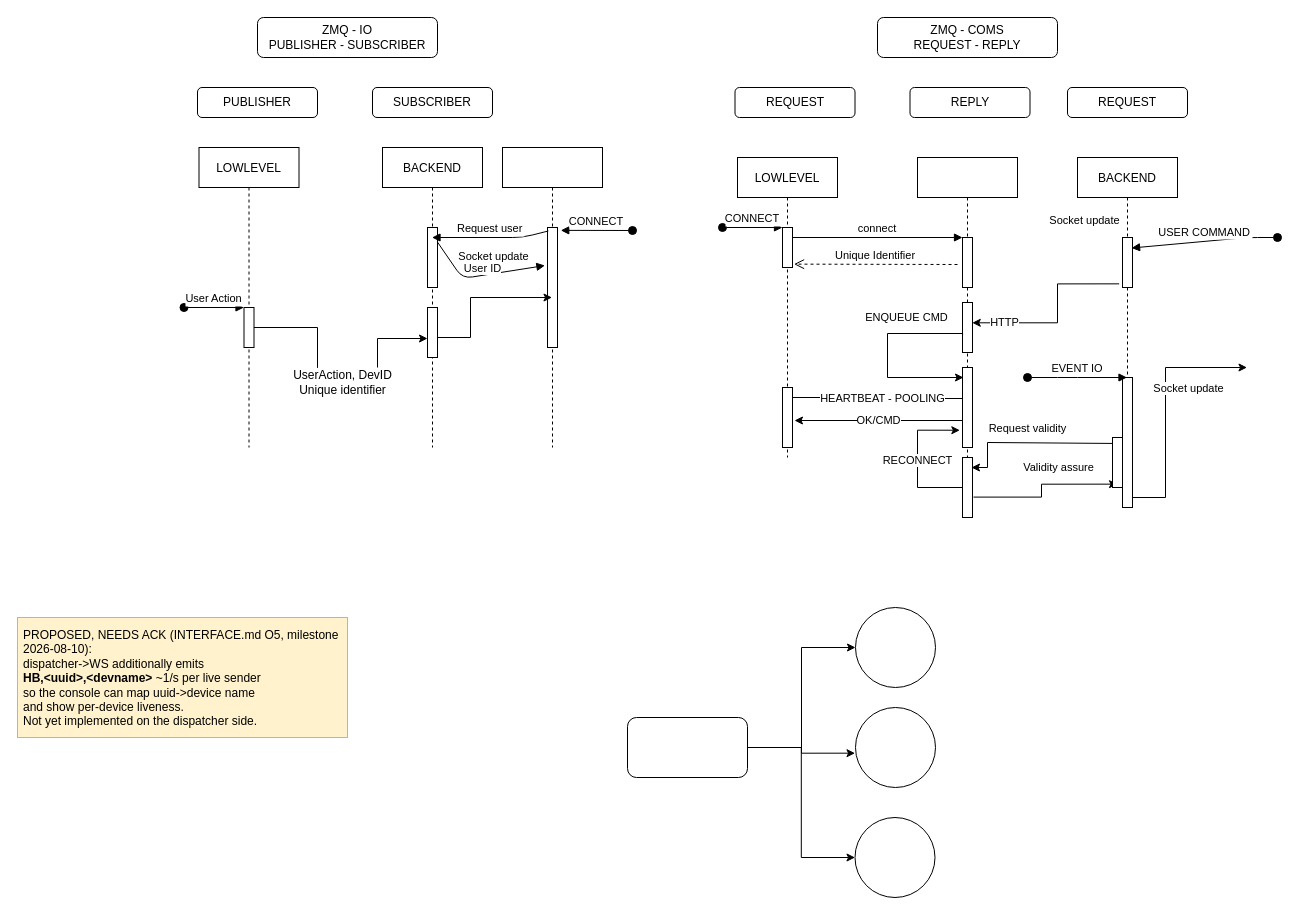
The diagram is 1306 pixels wide and 915 high, and some of its shapes have lost their labels. The shapes that lost their labels are listed below. From the top down, each one's box as (x1, y1, x2, y2) in pixels, then its label:
(502, 146, 602, 448): User
(916, 156, 1018, 458): DISPATCHER
